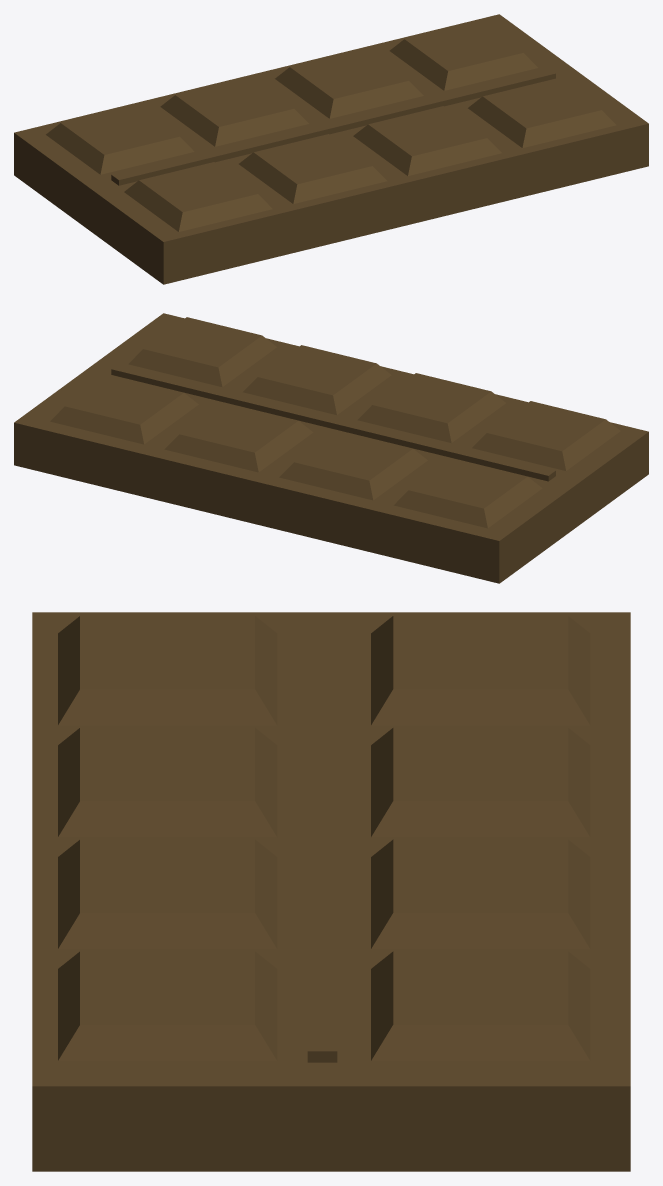
File: choco.glb
The picture shows the model from 3 angles, top to bottom: view 1: azimuth 30°, elevation 25°; view 2: azimuth 150°, elevation 25°; view 3: azimuth 270°, elevation 25°; orthographic projection. The views are drawn at different scales.
Visible parts, largest first — view 1: Chocolate; view 2: Chocolate; view 3: Chocolate.
Boxes of the visible parts, <box> form: Chocolate: <box>14,14,648,284</box>; Chocolate: <box>14,313,648,583</box>; Chocolate: <box>32,612,630,1171</box>.
Bounding box in the file's own units: 2.31 × 0.2554 × 1.23.
